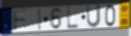0: (104, 5, 117, 28)
6: (49, 7, 62, 31)
F: (12, 9, 29, 33)
I: (38, 8, 42, 31)
L: (67, 6, 80, 30)
U: (86, 5, 103, 30)
